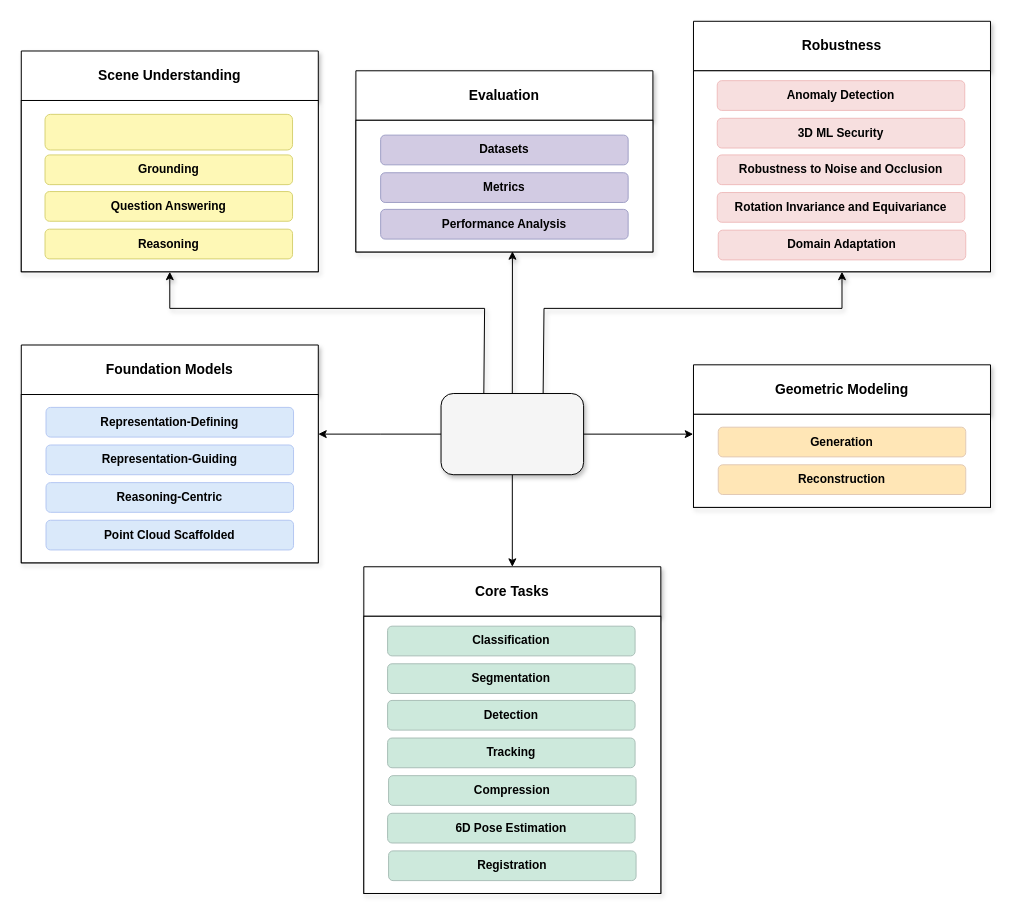
The diagram is 1014 pixels wide and 918 high, and some of its shapes have lost their labels. Each missing label, with the centre of its shape:
"3D Point Cloud" belongs at point (513, 435).
"Captioning" belongs at point (168, 131).
